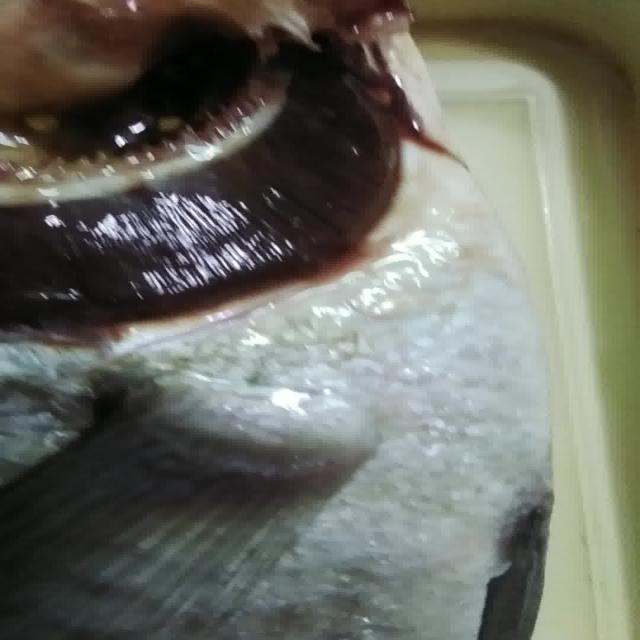Non-Fresh: (2, 4, 516, 367)
